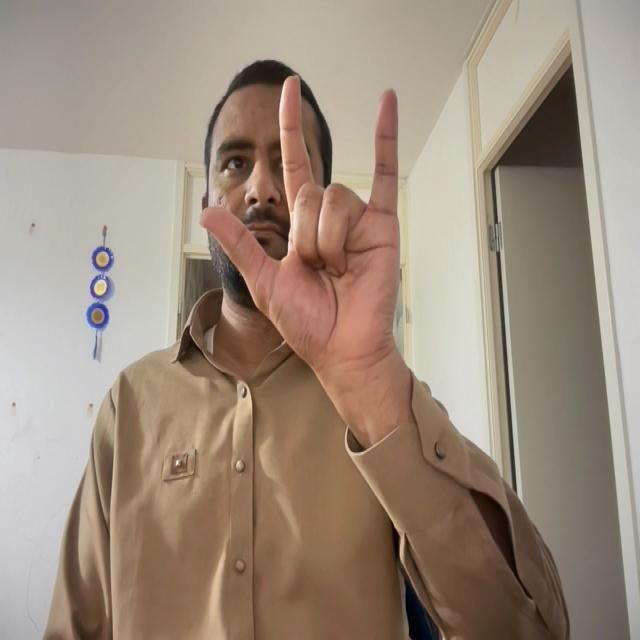IloveYou: (199, 61, 443, 377)
